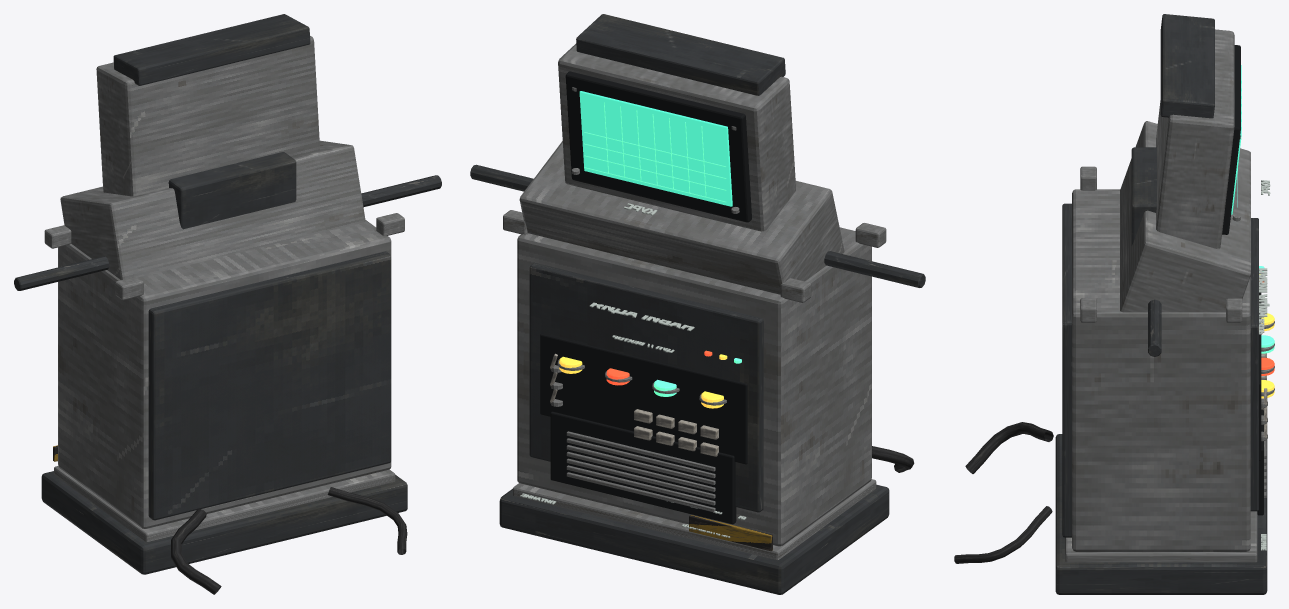
File: navigation_console_v2.glb
The picture shows the model from 3 angles, left to right: view 1: azimuth 30°, elevation 25°; view 2: azimuth 150°, elevation 25°; view 3: azimuth 270°, elevation 25°; orthographic projection. The views are drawn at different scales.
Parts seen in each view (by area): view 1: BodyBack, Body, DisplayHousing, Deck, BasePlinth, DisplayTop, DisplayNeck, BaseTrim, HandleBar, CableA, HandleBar.001, CableB (+2 smaller); view 2: Body, Deck, FrontInset, BasePlinth, FrontControlPlate, DisplayHousing, DisplayScreen, DisplayTop, LowerVentPanel, DisplayBezel, BaseTrim, HandleBar (+12 smaller); view 3: Body, Deck, DisplayHousing, BasePlinth, DisplayTop, BodyBack, FrontInset, BaseTrim, DisplayNeck, DisplayBezel, CableA, CableB (+2 smaller).
Part boxes in pixels (box(x1,y1,x2,y2)): BodyBack: box(148, 251, 391, 520); Body: box(58, 220, 391, 528); DisplayHousing: box(96, 36, 320, 196); Deck: box(60, 140, 365, 279); BasePlinth: box(41, 471, 407, 574); DisplayTop: box(113, 14, 310, 85); DisplayNeck: box(168, 152, 296, 229); BaseTrim: box(54, 466, 395, 541); HandleBar: box(14, 256, 109, 290); CableA: box(171, 509, 221, 594); HandleBar.001: box(361, 175, 441, 207); CableB: box(327, 487, 407, 554); Body: box(517, 227, 871, 546); Deck: box(519, 141, 844, 294); FrontInset: box(529, 263, 763, 512); BasePlinth: box(499, 484, 889, 594); FrontControlPlate: box(540, 333, 747, 464); DisplayHousing: box(558, 43, 795, 231); DisplayScreen: box(579, 91, 732, 206); DisplayTop: box(576, 14, 785, 95); LowerVentPanel: box(550, 411, 736, 524); DisplayBezel: box(565, 71, 751, 222); BaseTrim: box(513, 479, 876, 559); HandleBar: box(824, 251, 925, 287); Body: box(1072, 189, 1250, 551); Deck: box(1120, 121, 1250, 312); DisplayHousing: box(1156, 29, 1234, 249); BasePlinth: box(1055, 434, 1267, 594); DisplayTop: box(1160, 14, 1214, 118); BodyBack: box(1062, 203, 1071, 537); FrontInset: box(1250, 218, 1258, 511); BaseTrim: box(1065, 511, 1257, 562); DisplayNeck: box(1131, 147, 1156, 245); DisplayBezel: box(1222, 45, 1240, 234); CableA: box(965, 422, 1053, 473); CableB: box(954, 506, 1052, 563).
Bounding box in the file's own units: 1.52 × 1.58 × 0.9696.
Materials: 11 (5 with a texture image).
